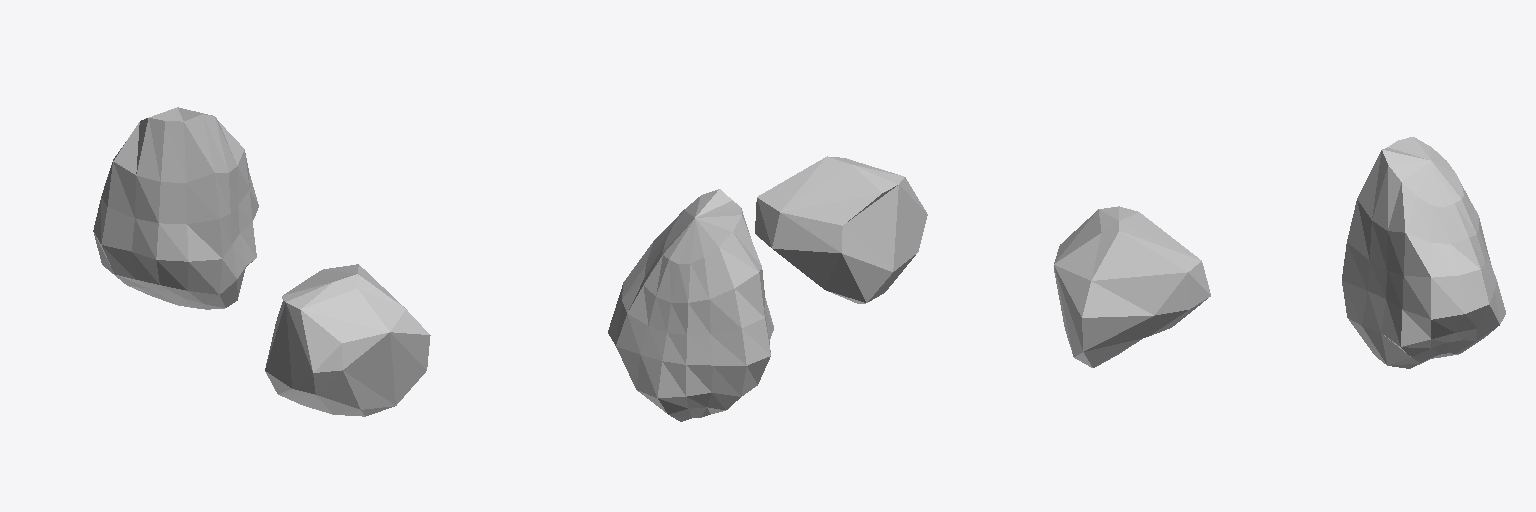
File: Rock.obj
3 views of the same model, side by side, from view 1: azimuth 30°, elevation 25°; view 2: azimuth 150°, elevation 25°; view 3: azimuth 270°, elevation 25° (orthographic).
Parts seen in each view (by area): view 1: Sphere001, Sphere002; view 2: Sphere001, Sphere002; view 3: Sphere001, Sphere002.
Boxes of the visible parts, <box> form: Sphere001: <box>93,107,258,309</box>; Sphere002: <box>265,264,430,416</box>; Sphere001: <box>608,189,773,421</box>; Sphere002: <box>755,156,927,303</box>; Sphere001: <box>1342,137,1505,368</box>; Sphere002: <box>1054,206,1210,367</box>.
Size of the model in its own units: 33.86 by 43.12 by 84.11.